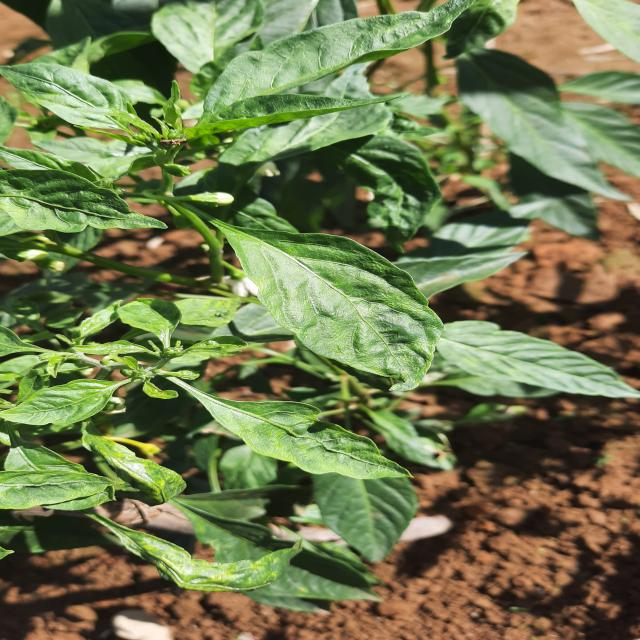thrips: (210, 230, 467, 382), (142, 381, 430, 482)
